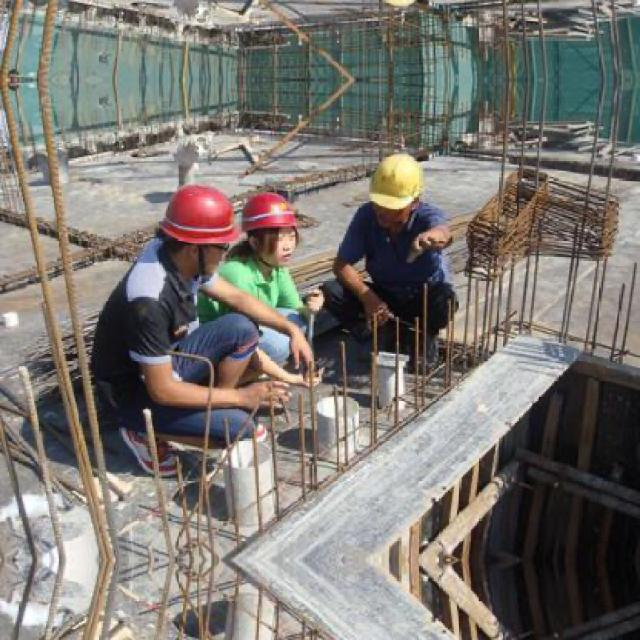con casco: (121, 174, 245, 306), (344, 154, 472, 242), (235, 182, 334, 276)
